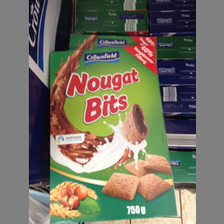cereal: (47, 44, 178, 224)
